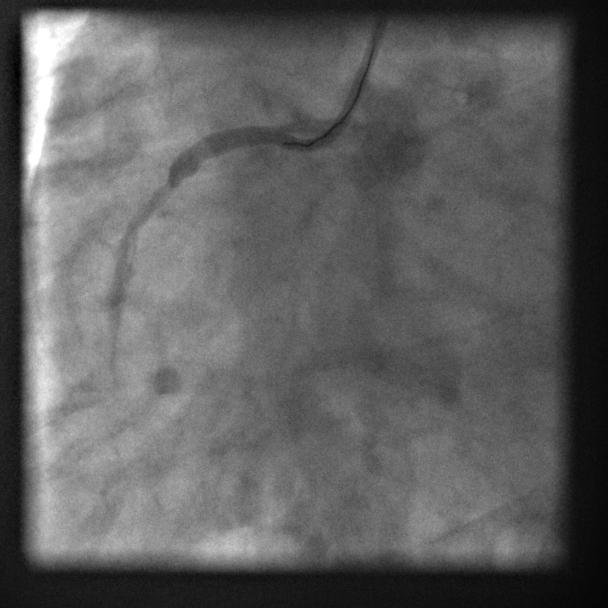Stenosis: (115, 173, 184, 231)
